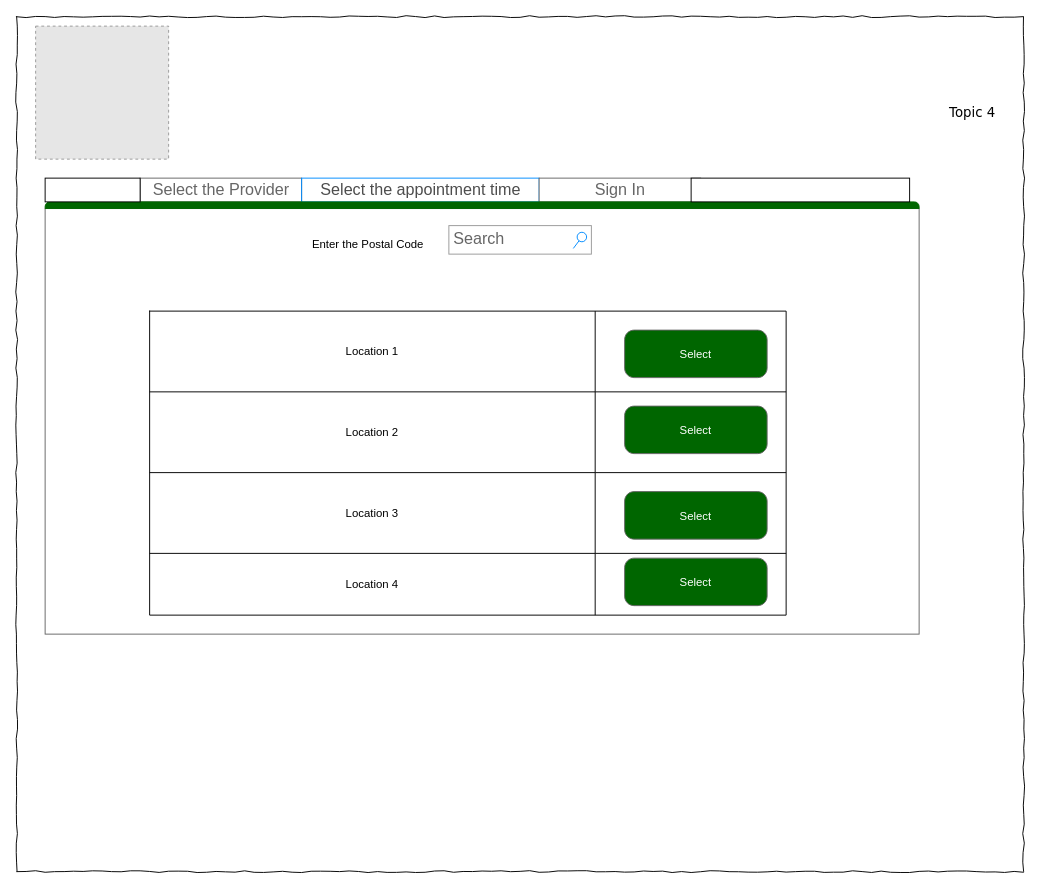
This 1040x888 diagram has some shape labels left out. Grey dashed boxes stand in for pictures. Each missing label, with the centre of its shape:
"Confirmation Page" belongs at point (800, 189).
"Location" belongs at point (92, 189).
